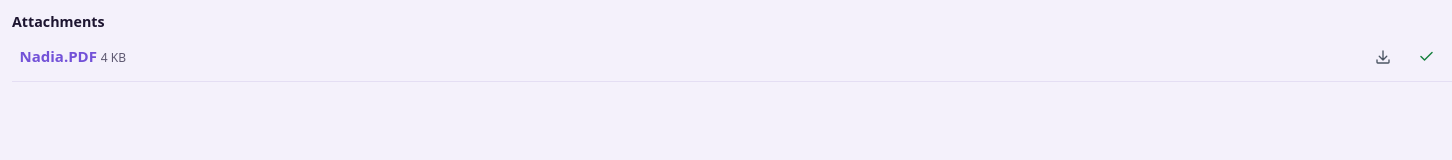
Scenario: follows an import still being read that is no longer among the latest, by its own address
Click the heading named "Uploaded: Nadia.PDF" at coordinates (1426, 57), box [1408,39,1444,75]
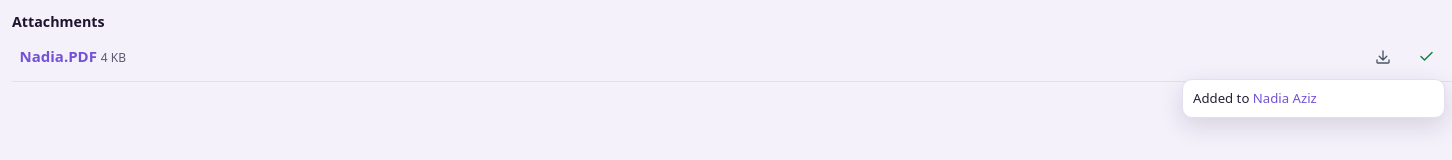
Expected: the message reads "Added to Nadia Aziz", [1182,79,1444,118]
